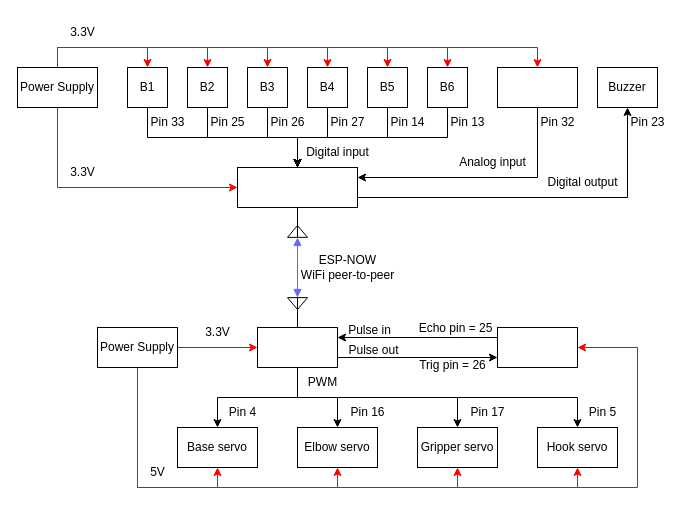
Image size: 695x513. Some labels were removed from this diagram. The centre of each missing label's shape, as x and y in pixels:
"ESP32 Actuator" belongs at (x=297, y=347).
"ESP32 Remote control" belongs at (x=297, y=187).
"Potentiometer" belongs at (x=537, y=87).
"Ultrasonic sensor" belongs at (x=537, y=347).
